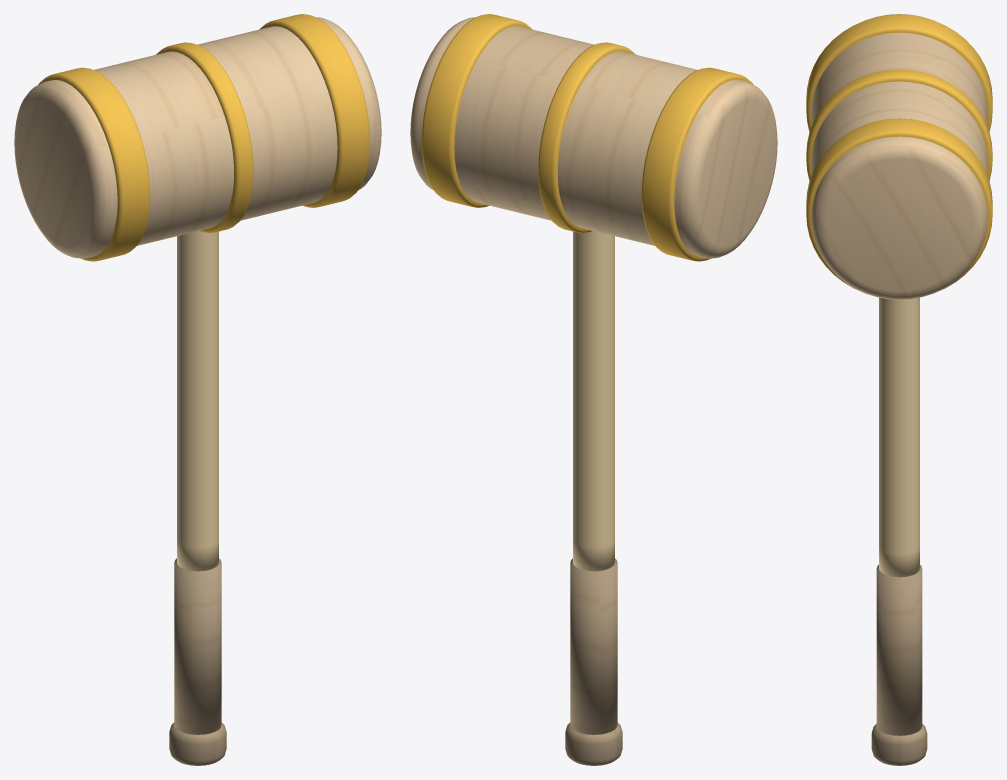
Rendered from hammer_akadaru.fbx.
3 renders of one model, left to right at view 1: azimuth 30°, elevation 25°; view 2: azimuth 150°, elevation 25°; view 3: azimuth 270°, elevation 25°, orthographic. The views are drawn at different scales.
Parts seen in each view (by area): view 1: akadaru_hammer; view 2: akadaru_hammer; view 3: akadaru_hammer.
Boxes of the visible parts, x1,y1,x2,y2 form: akadaru_hammer: [14, 14, 381, 765]; akadaru_hammer: [410, 14, 777, 765]; akadaru_hammer: [806, 14, 992, 765].
Bounding box in the file's own units: 1.1 × 2.58 × 0.636.
Materials: 4 (2 with a texture image).
